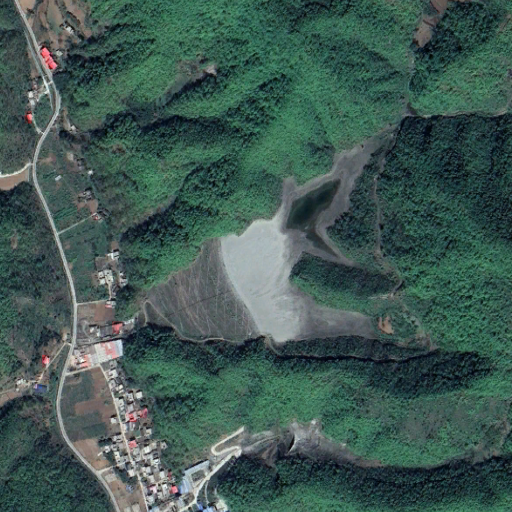tp: (141, 138, 382, 343)
